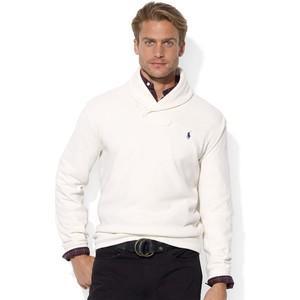S_cardigan sweater: (37, 77, 254, 284)
